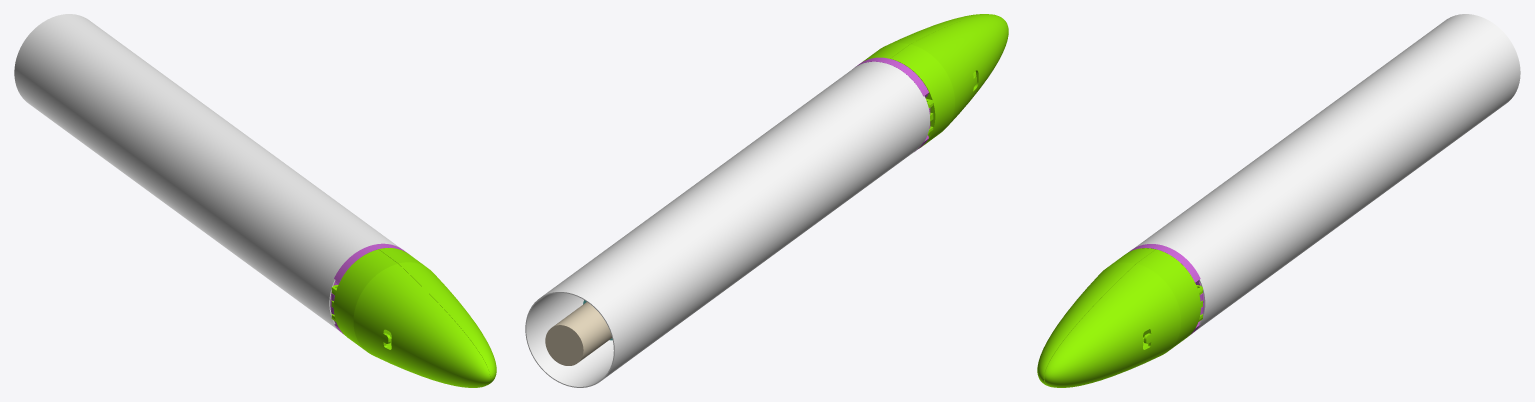
Rendered from Rocket.glb.
The picture shows the model from 3 angles, left to right: view 1: azimuth 30°, elevation 25°; view 2: azimuth 150°, elevation 25°; view 3: azimuth 330°, elevation 25°; orthographic projection.
Visible parts, largest first — view 1: Part 1 (×4); view 2: Part 1 (×5); view 3: Part 1 (×4).
Part boxes in pixels (bbox=[...]): Part 1 (×4): bbox=[14, 14, 496, 387]; Part 1 (×5): bbox=[525, 14, 1008, 387]; Part 1 (×4): bbox=[1037, 14, 1520, 387].
Size of the model in its own units: 0.0565 by 0.0564 by 0.4772.
